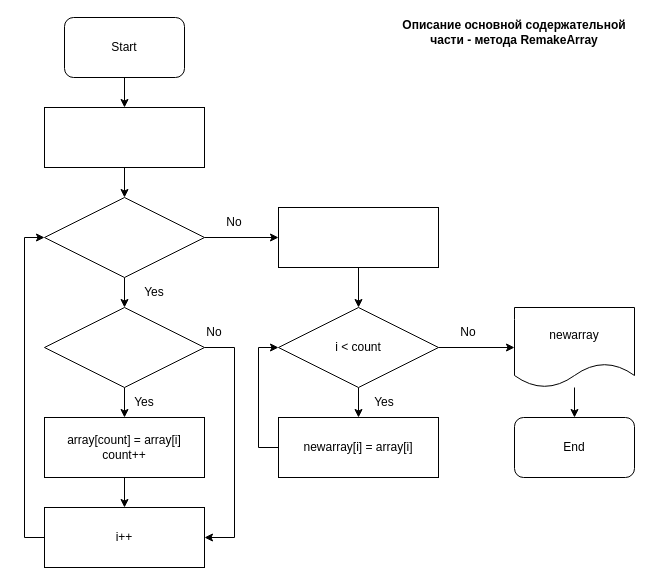
This 652x585 diagram has some shape labels left out. Each missing label, with the box of its shape:
array.Length <= 3: (44, 306, 204, 388)
array[] count, i = 0: (44, 106, 204, 168)
i < array.GetLength(0): (44, 196, 204, 278)
newarray[count] i = 0: (278, 206, 438, 268)
